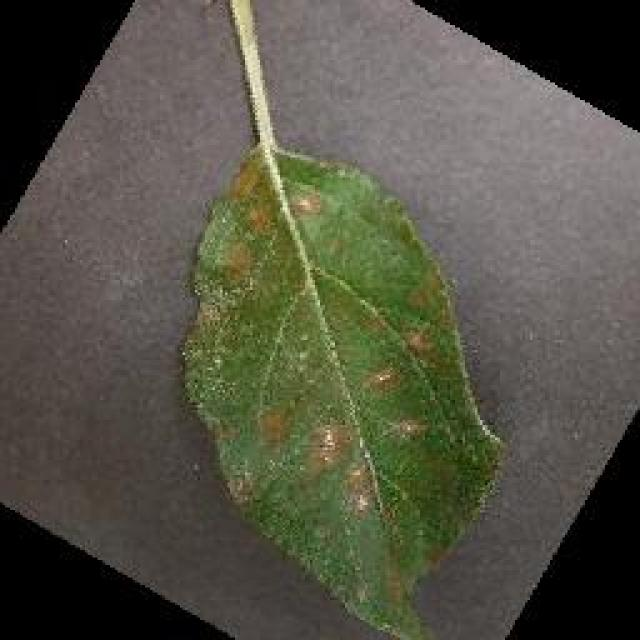apple healthy: (177, 140, 505, 638)
